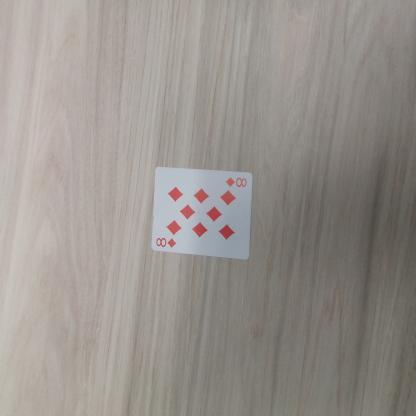8D: (150, 236, 180, 256), (219, 176, 254, 189)
